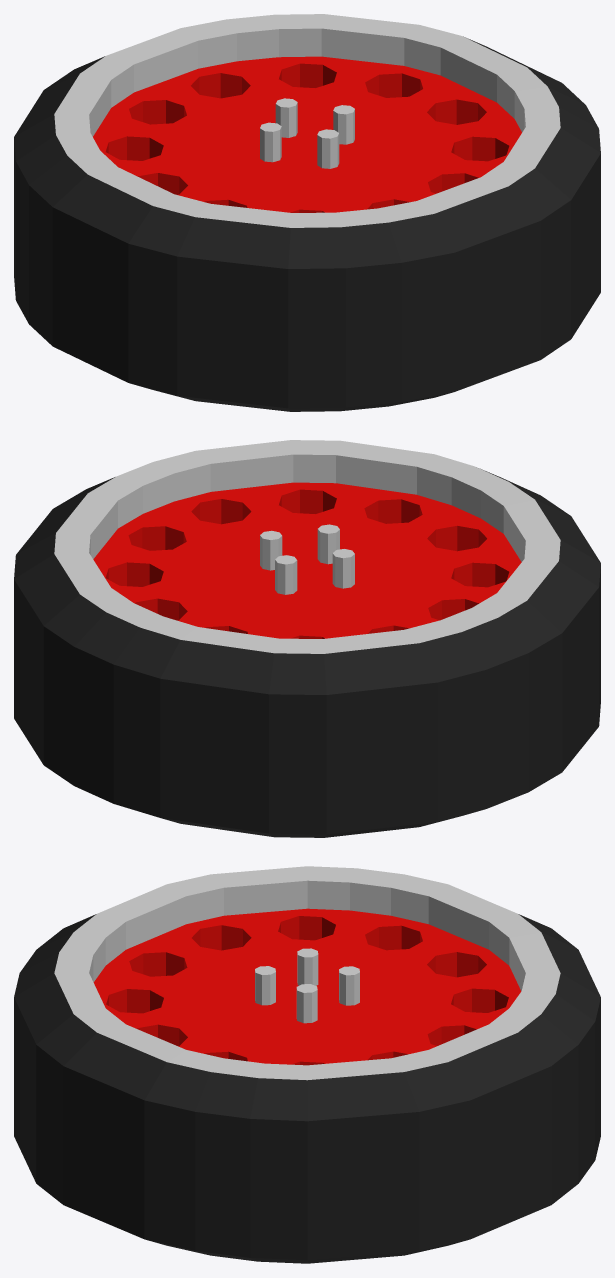
Rendered from Wheel Low Poly.fbx.
The picture shows the model from 3 angles, top to bottom: view 1: azimuth 30°, elevation 25°; view 2: azimuth 150°, elevation 25°; view 3: azimuth 270°, elevation 25°; orthographic projection.
Visible parts, largest first — view 1: Wheel; view 2: Wheel; view 3: Wheel.
Part boxes in pixels (<box>): Wheel: <box>14,14,600,411</box>; Wheel: <box>14,440,600,837</box>; Wheel: <box>14,866,600,1263</box>.
Bounding box in the file's own units: 232 × 81.1 × 232.
